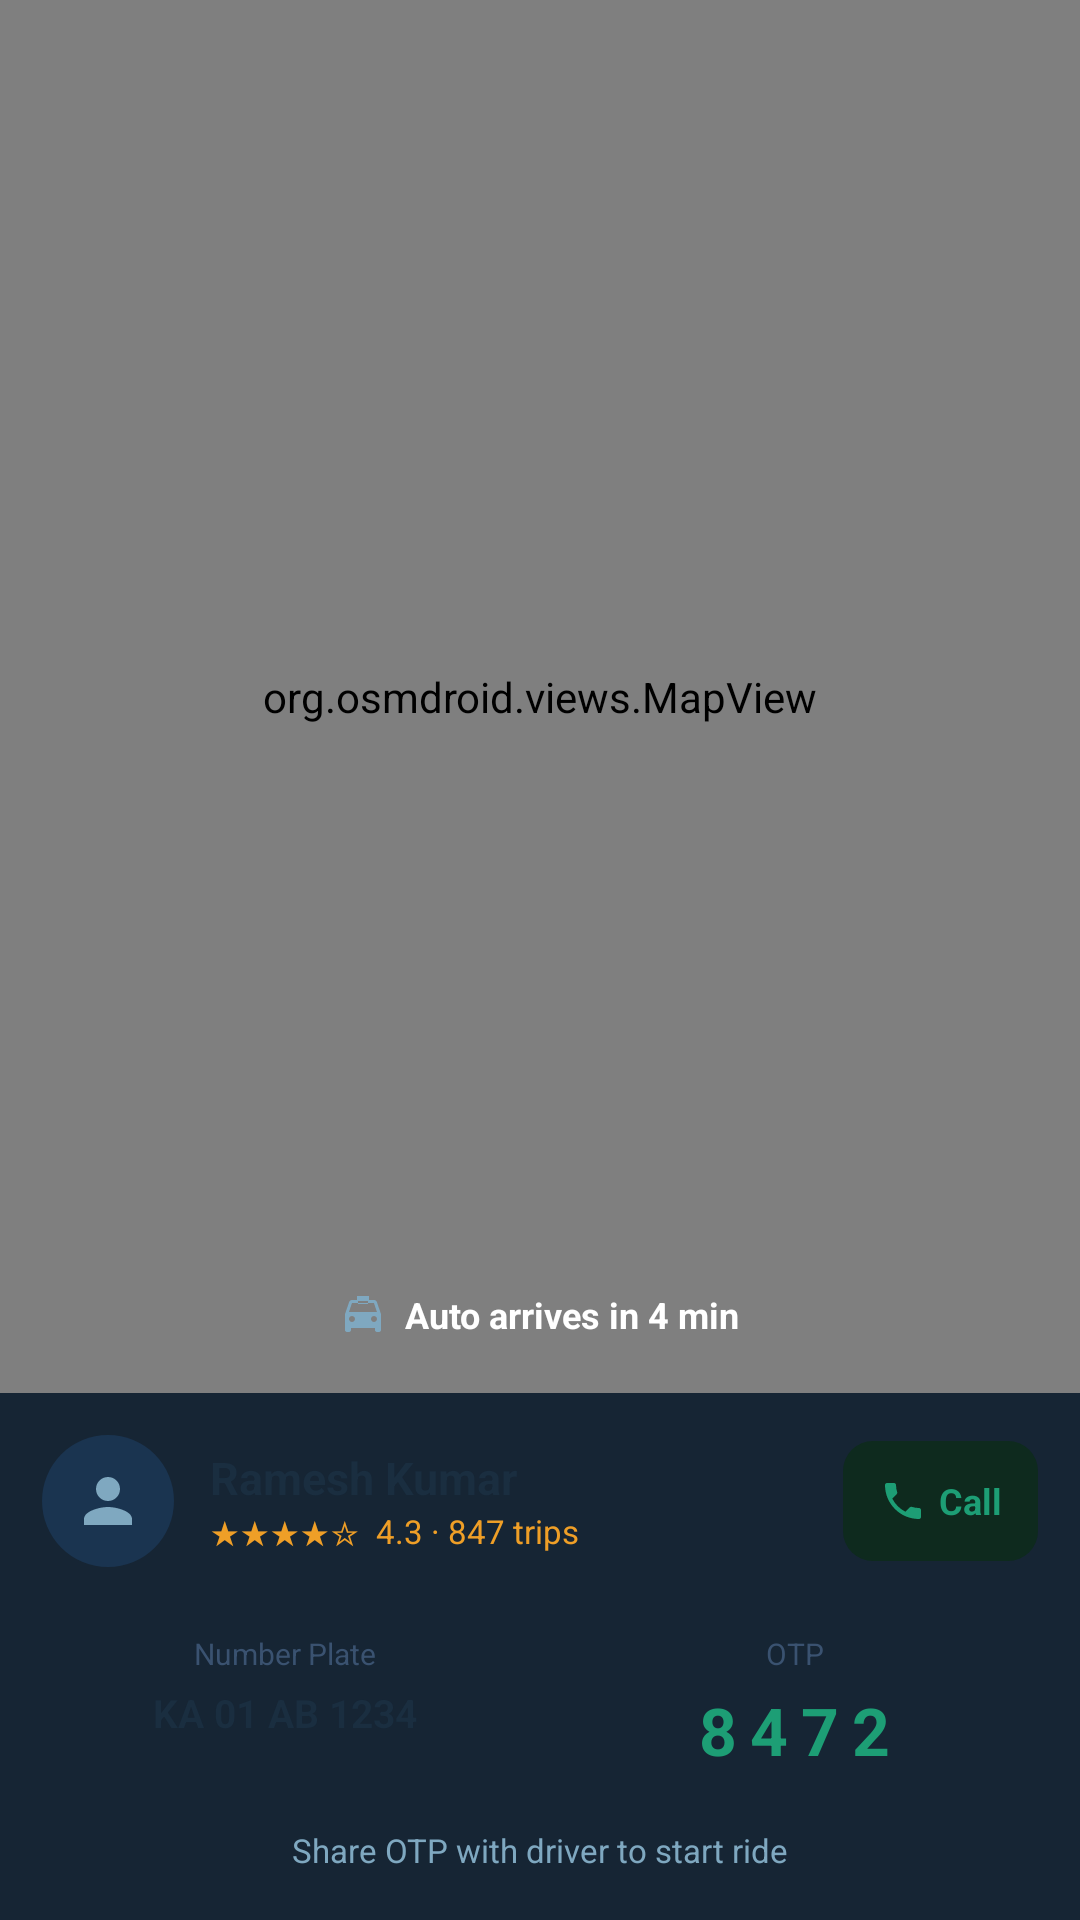

Named icons in this screenshot (1080x1920) and their centers, (x,y):
local taxi: (363,1314)
person: (108,1501)
phone: (903,1501)
